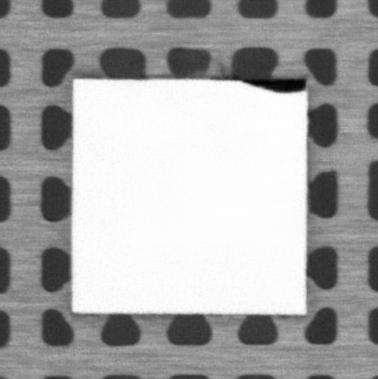DIE_BROKEN: (241, 77, 308, 94)
